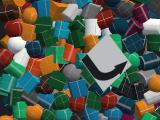Left: (80, 33, 132, 91)
